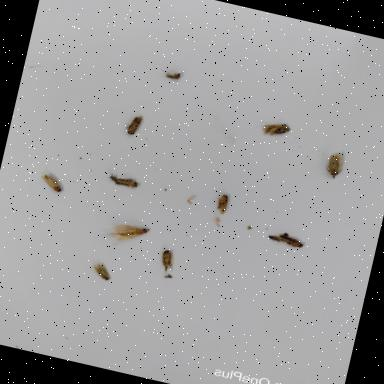pbw: (260, 118, 292, 139), (324, 152, 346, 180), (211, 190, 232, 215), (39, 173, 65, 193), (124, 112, 144, 137), (160, 248, 178, 274), (91, 261, 113, 281), (276, 234, 304, 249), (113, 176, 139, 190)
